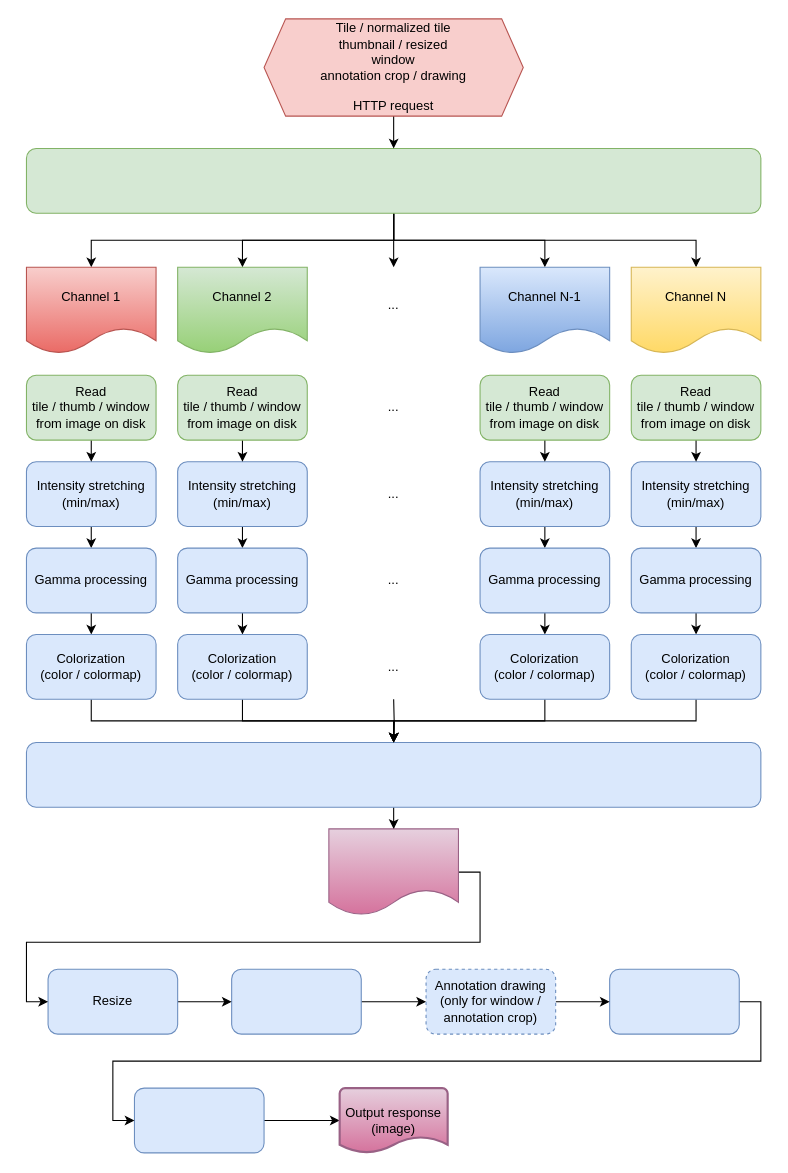
This 788x1173 diagram has some shape labels left out. The centre of each missing label's shape, as x and y in pixels:
"Channel reduction (merging)" goes at pixel 393 774.
"Colorspace (GRAY / COLOR)" goes at pixel 674 1001.
"Filters" goes at pixel 296 1001.
"Get image info & Check request consistency Identify required channels" goes at pixel 393 180.
"Merged image (grayscale or RGB)" goes at pixel 393 871.
"Output encoding (JPEG / PNG / WEBP)" goes at pixel 198 1120.
